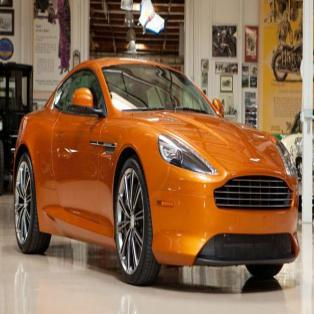Auto: (12, 53, 304, 292)
